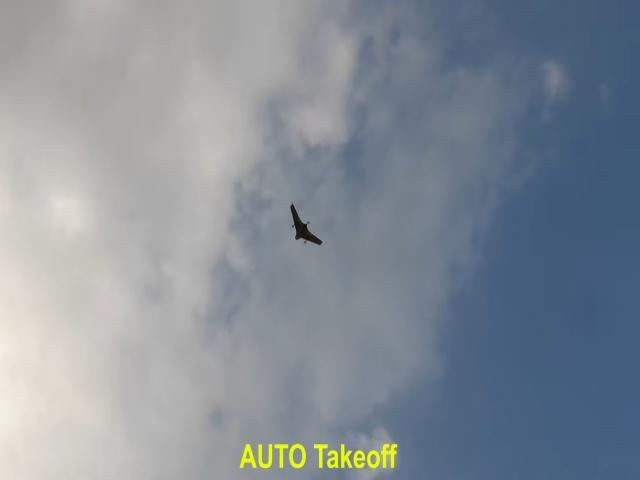plane: (290, 203, 322, 244)
